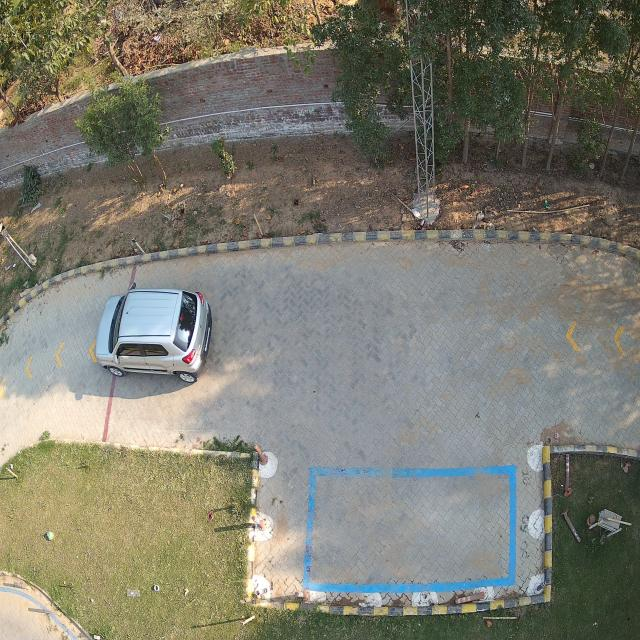car: (93, 289, 212, 384)
